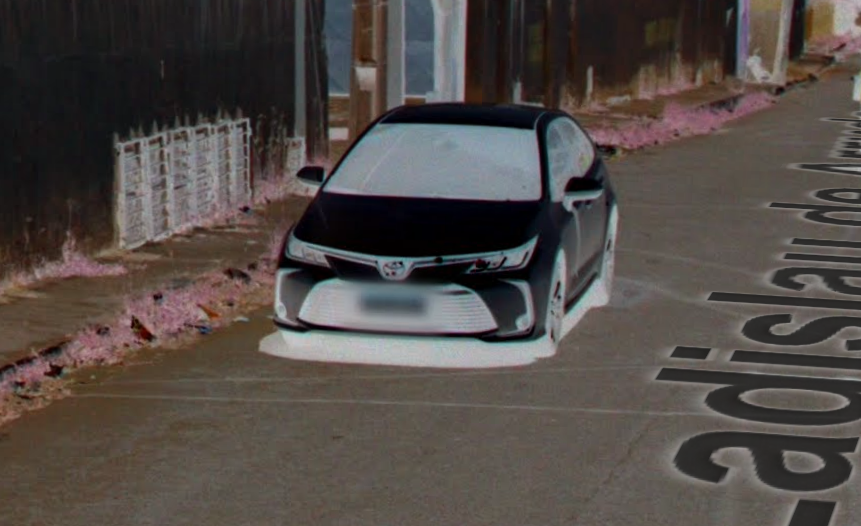car: (265, 100, 634, 355)
